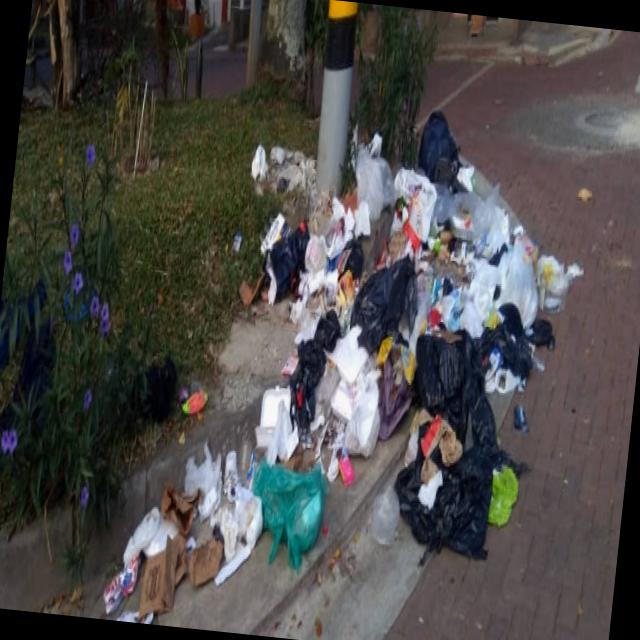garbage: (92, 81, 607, 640)
